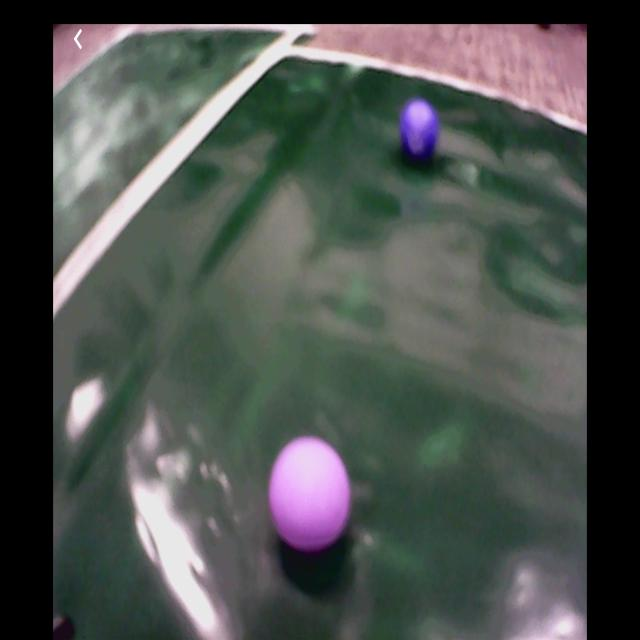ball: (272, 441, 353, 554), (402, 101, 438, 160)
